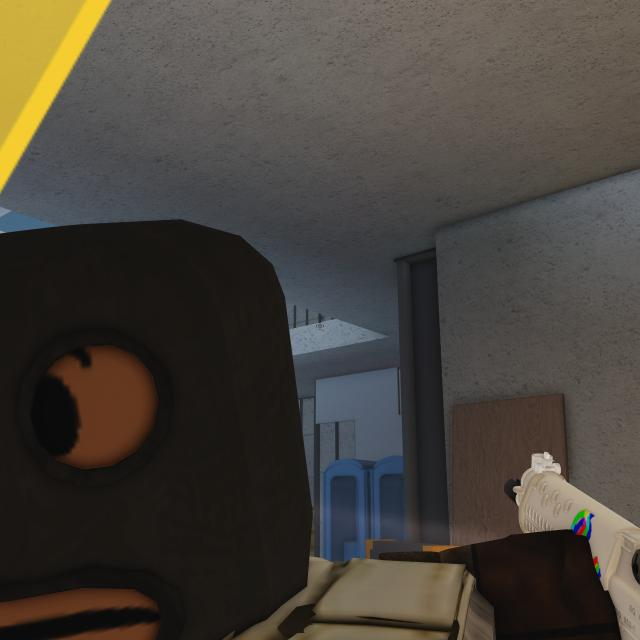Head: (0, 214, 300, 640)
